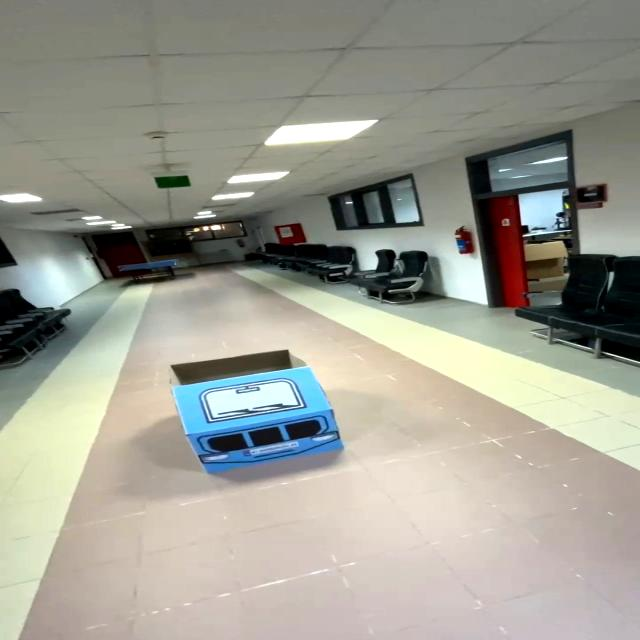blue_car: (123, 326, 371, 489)
